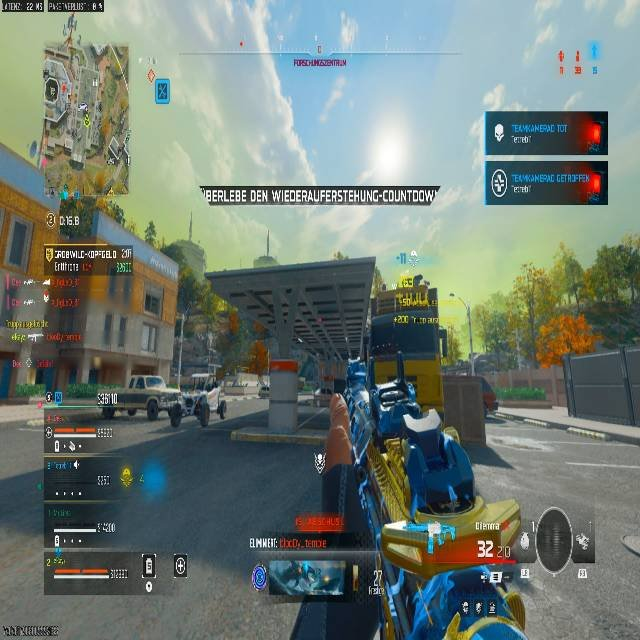player: (257, 381, 270, 401)
